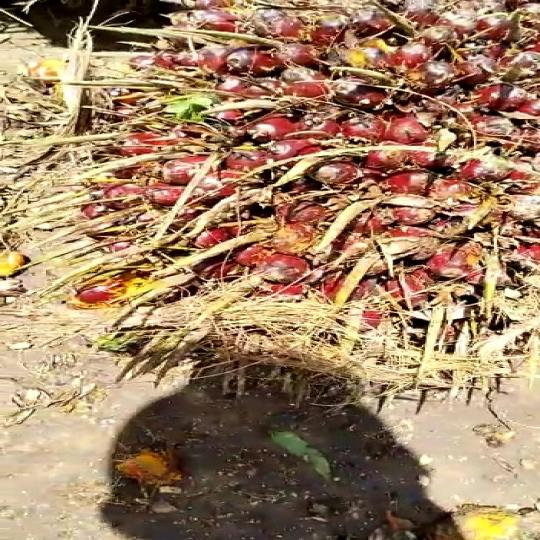masak: (71, 0, 540, 402)
